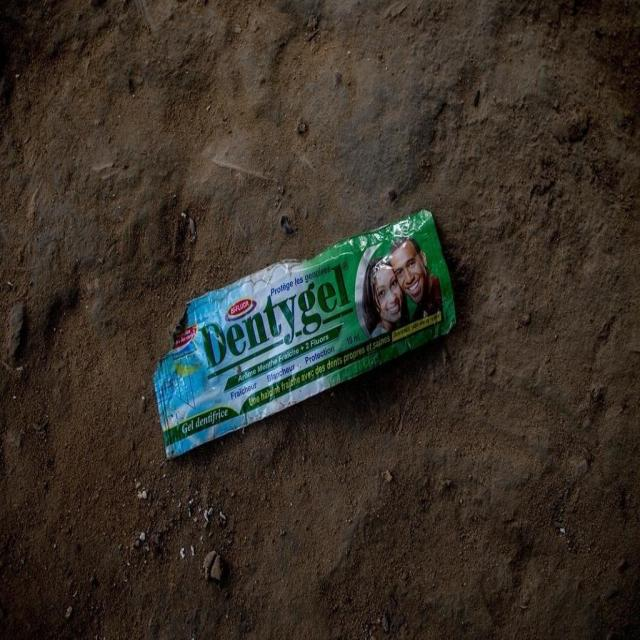Toothpaste: (164, 194, 468, 477)
